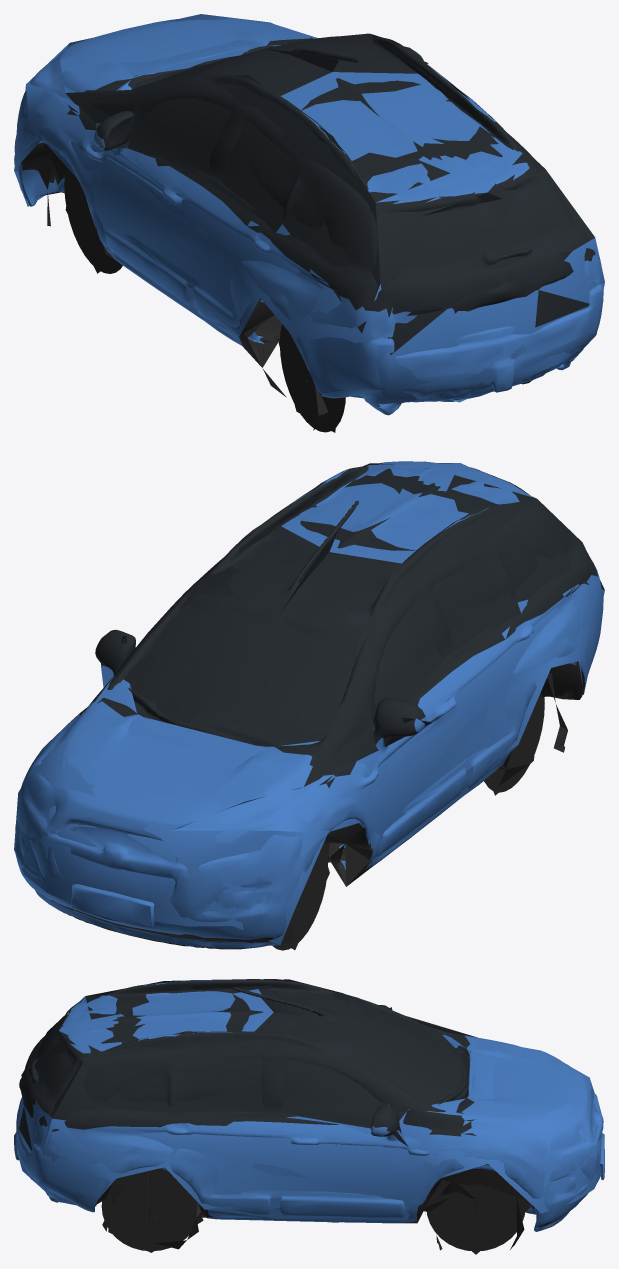
File: chevrolet-captiva.glb
The picture shows the model from 3 angles, top to bottom: view 1: azimuth 30°, elevation 25°; view 2: azimuth 150°, elevation 25°; view 3: azimuth 270°, elevation 25°; orthographic projection. The views are drawn at different scales.
Parts seen in each view (by area): view 1: body, far; view 2: body, far; view 3: body, far.
Part boxes in pixels (x1=…): body: x1=14, y1=17, x2=603, y2=432; far: x1=14, y1=14, x2=604, y2=432; body: x1=14, y1=461, x2=603, y2=950; far: x1=14, y1=463, x2=604, y2=949; body: x1=14, y1=979, x2=604, y2=1250; far: x1=16, y1=979, x2=602, y2=1254.
Size of the model in its own units: 2.24 by 2.01 by 4.64.
